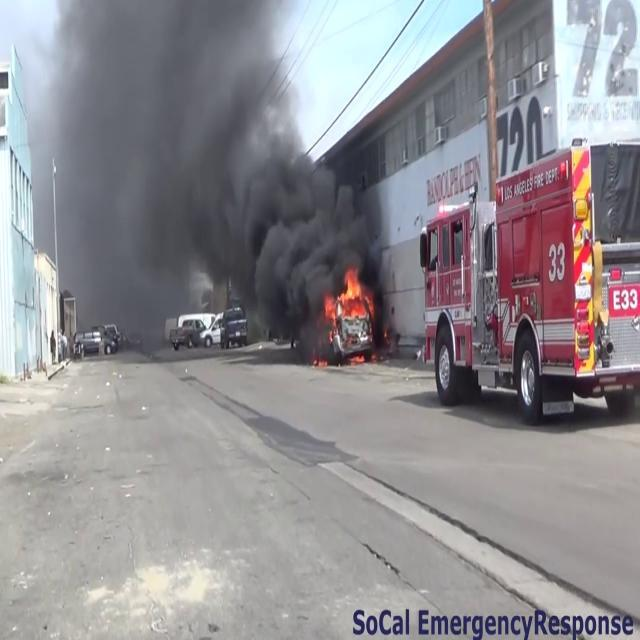Fire: (324, 264, 376, 330)
Smoke: (41, 0, 396, 337)
